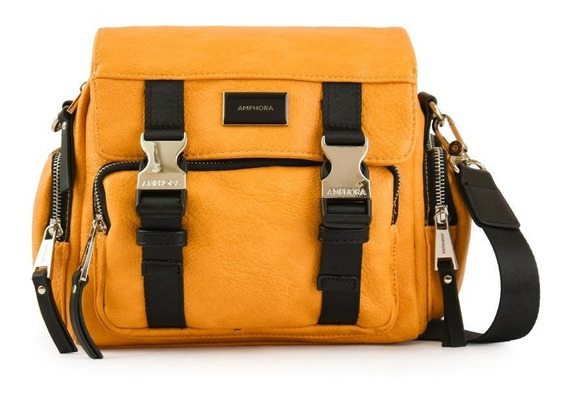cartera: (30, 22, 542, 361)
